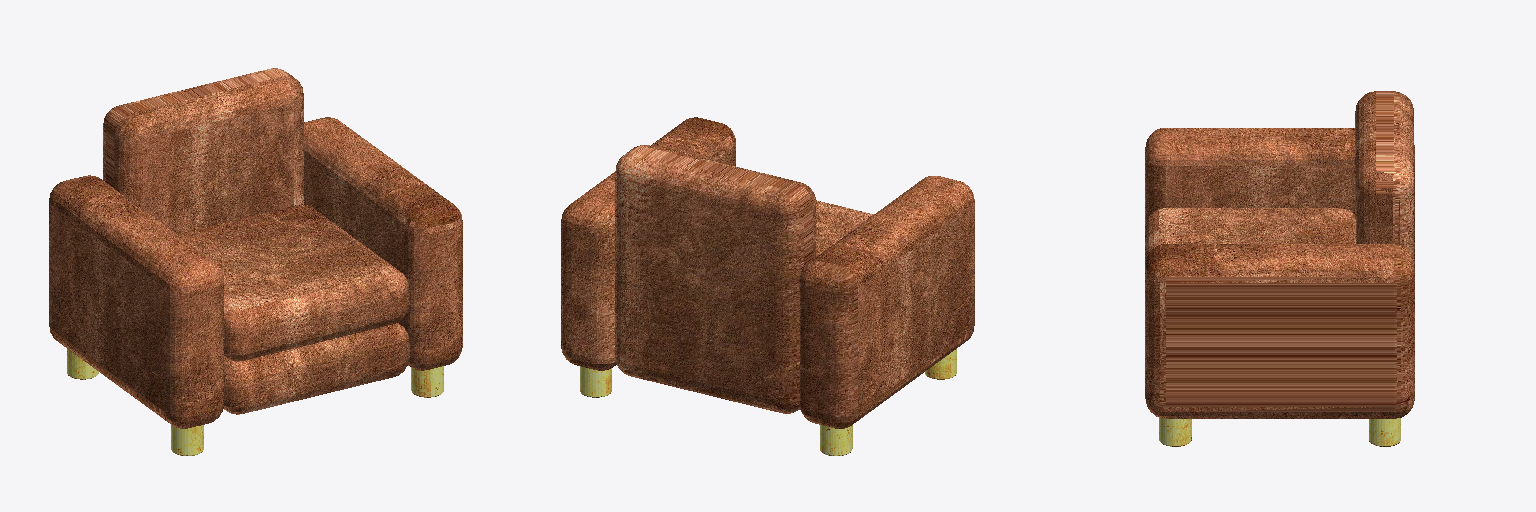
3 renders of one model, left to right at view 1: azimuth 30°, elevation 25°; view 2: azimuth 150°, elevation 25°; view 3: azimuth 270°, elevation 25°, orthographic.
Parts seen in each view (by area): view 1: armshair; view 2: armshair; view 3: armshair.
Part boxes in pixels (left/top/right/bottom): armshair: left=49, top=68, right=462, bottom=455; armshair: left=561, top=117, right=974, bottom=455; armshair: left=1145, top=91, right=1414, bottom=446.
Size of the model in its own units: 5.29 by 4.34 by 4.2.
1 materials, 1 textured.